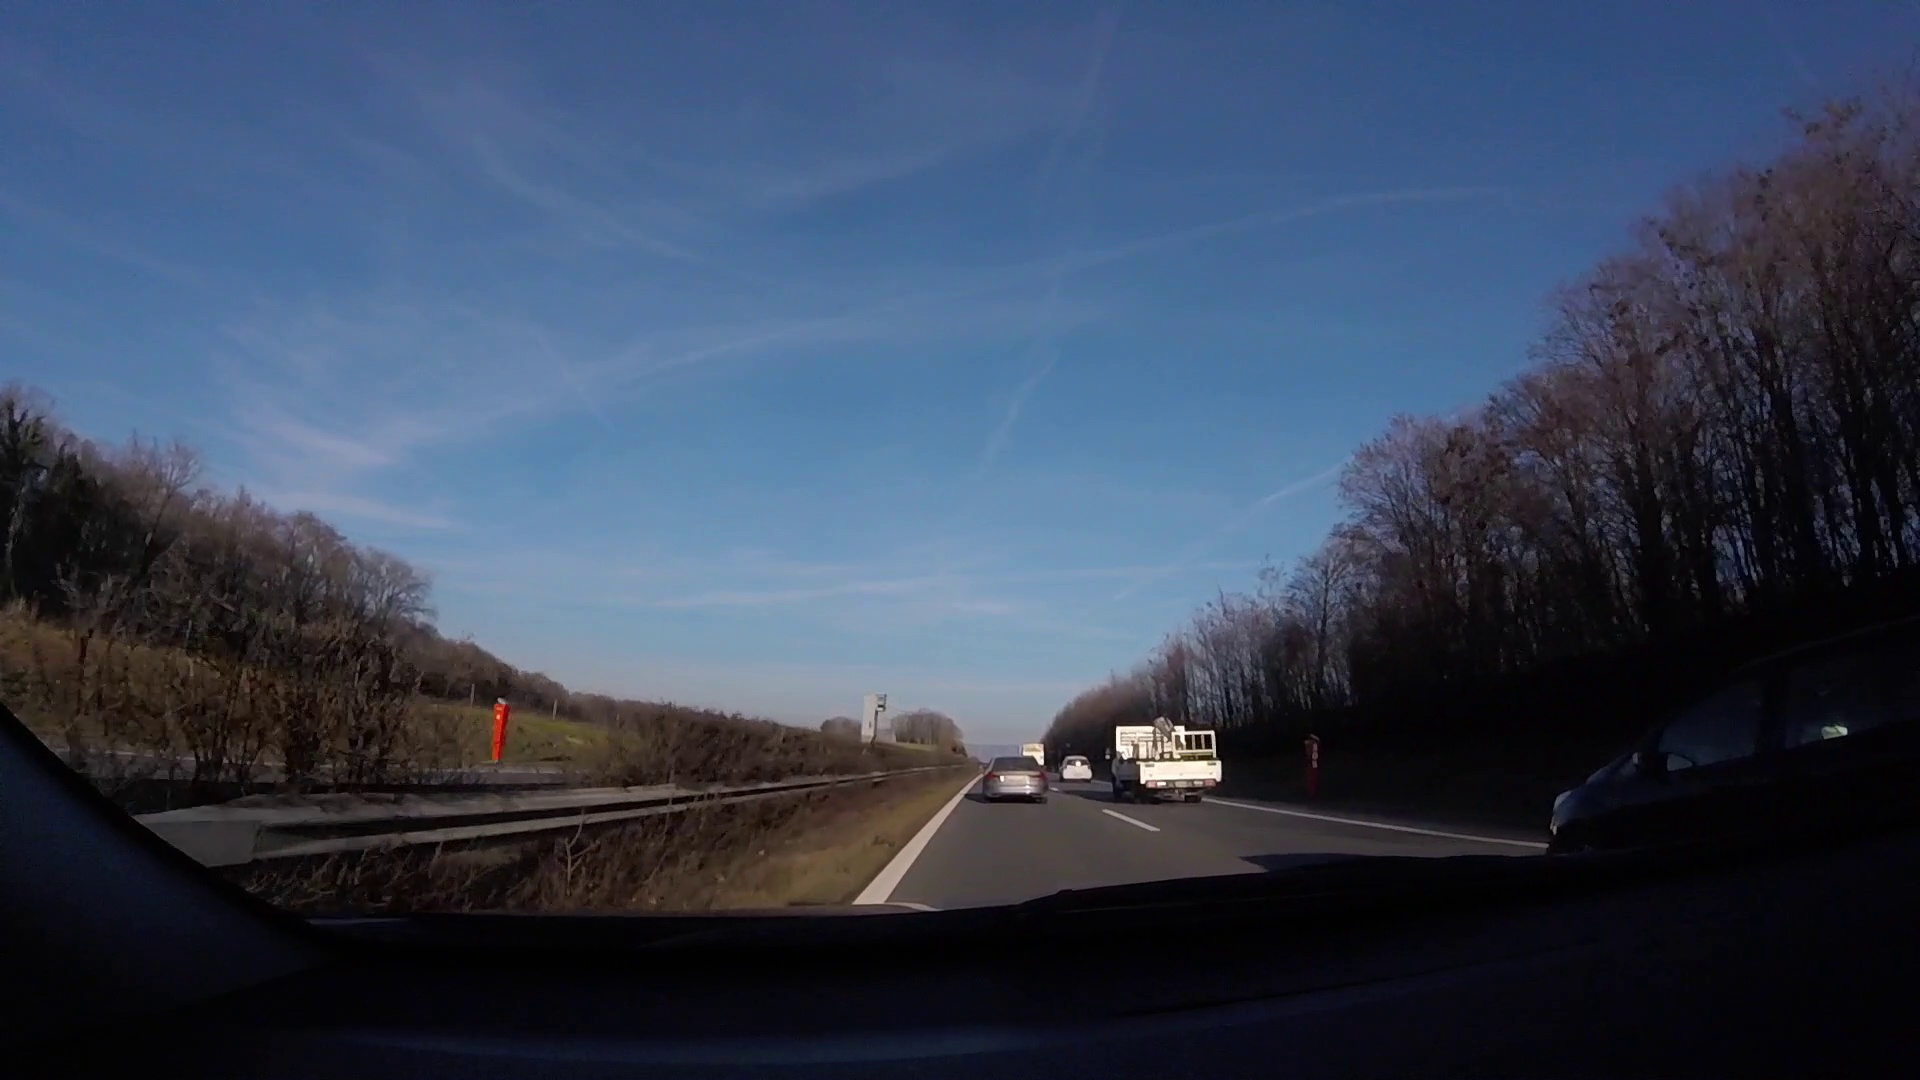radar: (860, 691, 890, 749)
